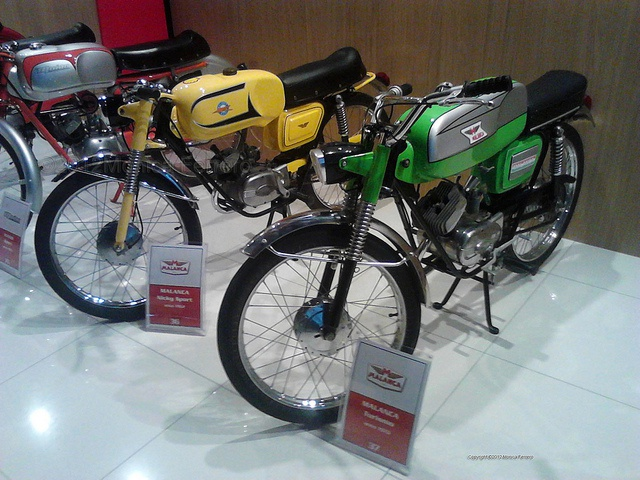non-vehicle: (217, 69, 595, 424), (35, 47, 390, 321), (0, 29, 247, 230)
